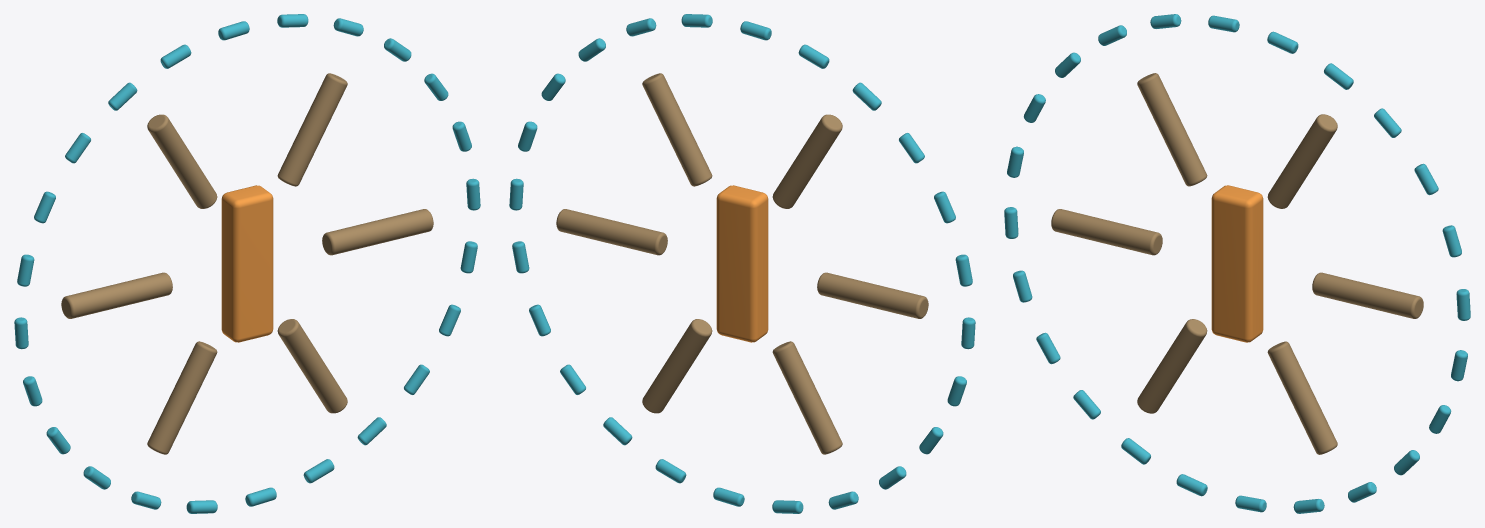
Rendered from signal_emblem.fbx.
3 views of the same model, side by side, from view 1: azimuth 30°, elevation 25°; view 2: azimuth 150°, elevation 25°; view 3: azimuth 330°, elevation 25° (orthographic).
Parts seen in each view (by area): view 1: signal_emblem; view 2: signal_emblem; view 3: signal_emblem.
Boxes of the visible parts, <box> form: signal_emblem: <box>14,14,480,513</box>; signal_emblem: <box>509,14,975,513</box>; signal_emblem: <box>1004,14,1470,513</box>.
Size of the model in its own units: 205 by 205 by 12.
